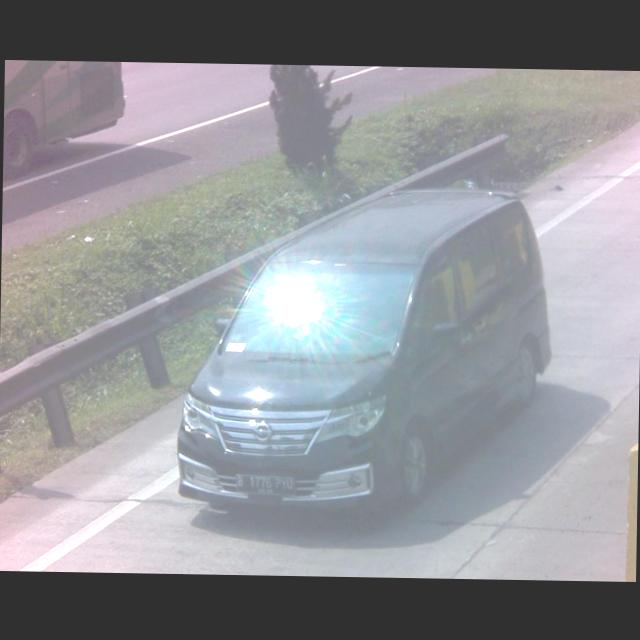plate: (232, 470, 294, 495)
